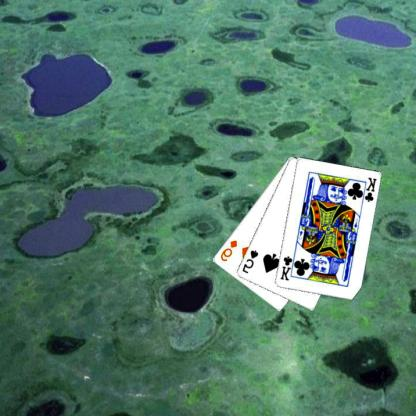5S: (241, 248, 261, 274)
6D: (220, 238, 240, 262)
KC: (360, 175, 379, 205), (280, 252, 298, 282)
